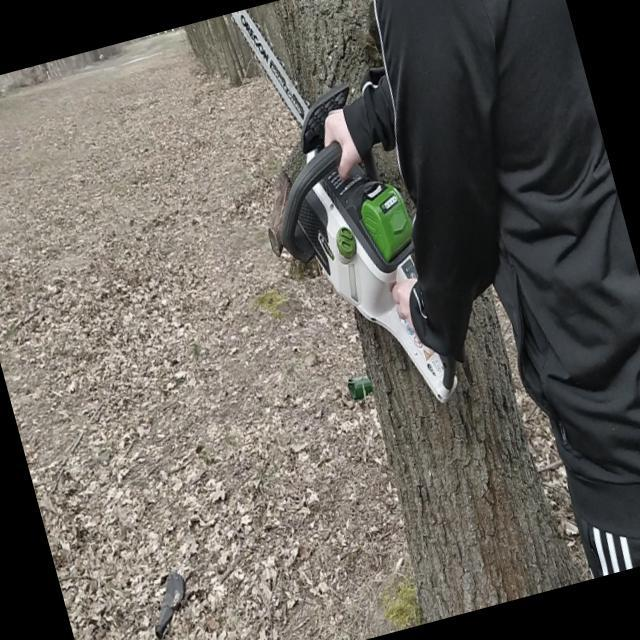Chainsaw: (220, 0, 472, 436)
